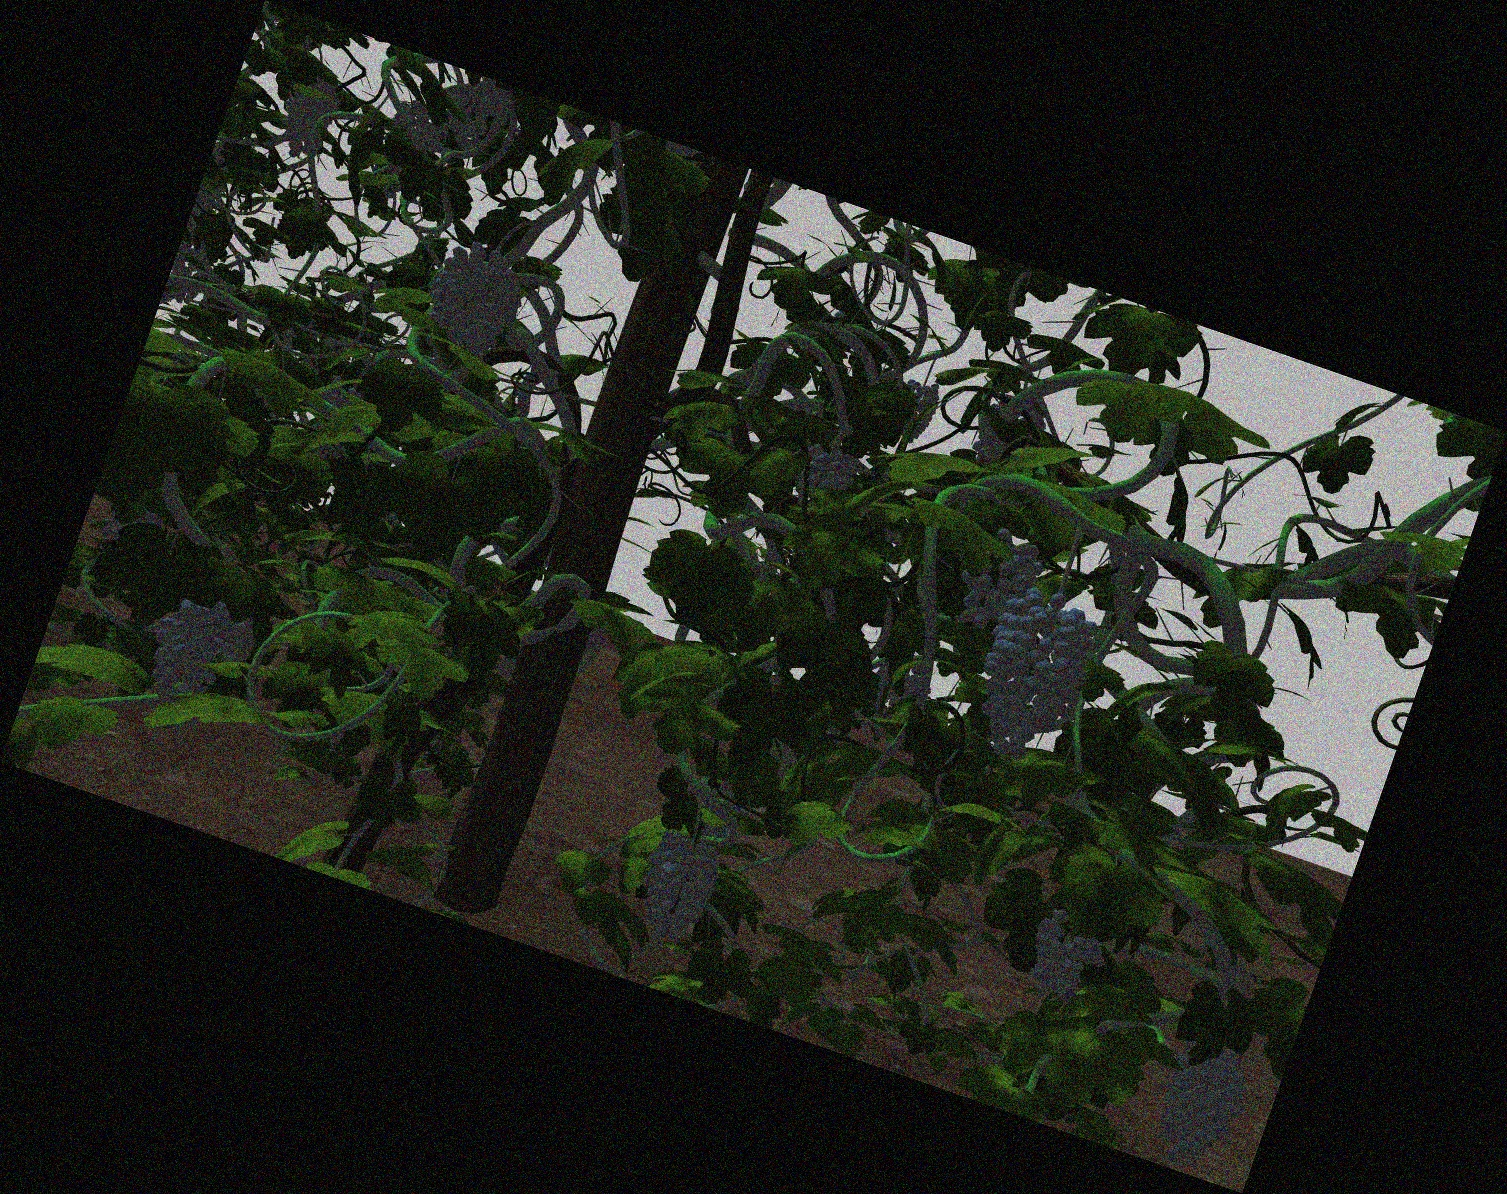grape: (983, 595, 1085, 756), (1158, 1048, 1240, 1167), (431, 245, 517, 356), (154, 597, 239, 705), (640, 838, 712, 947), (961, 532, 1030, 624), (1027, 918, 1103, 995), (283, 77, 331, 160), (796, 447, 853, 505)
